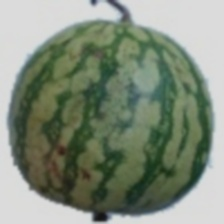watermelon: (23, 28, 178, 211)
